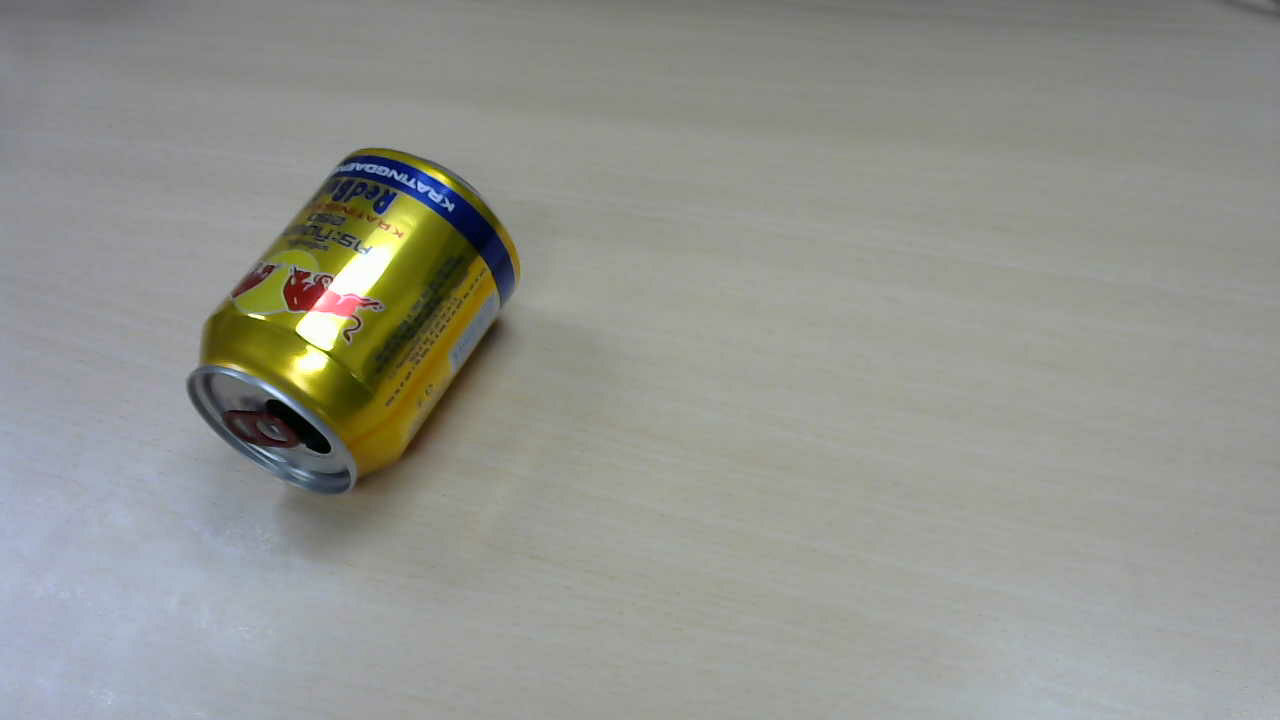Red_Bull: (191, 147, 527, 509)
